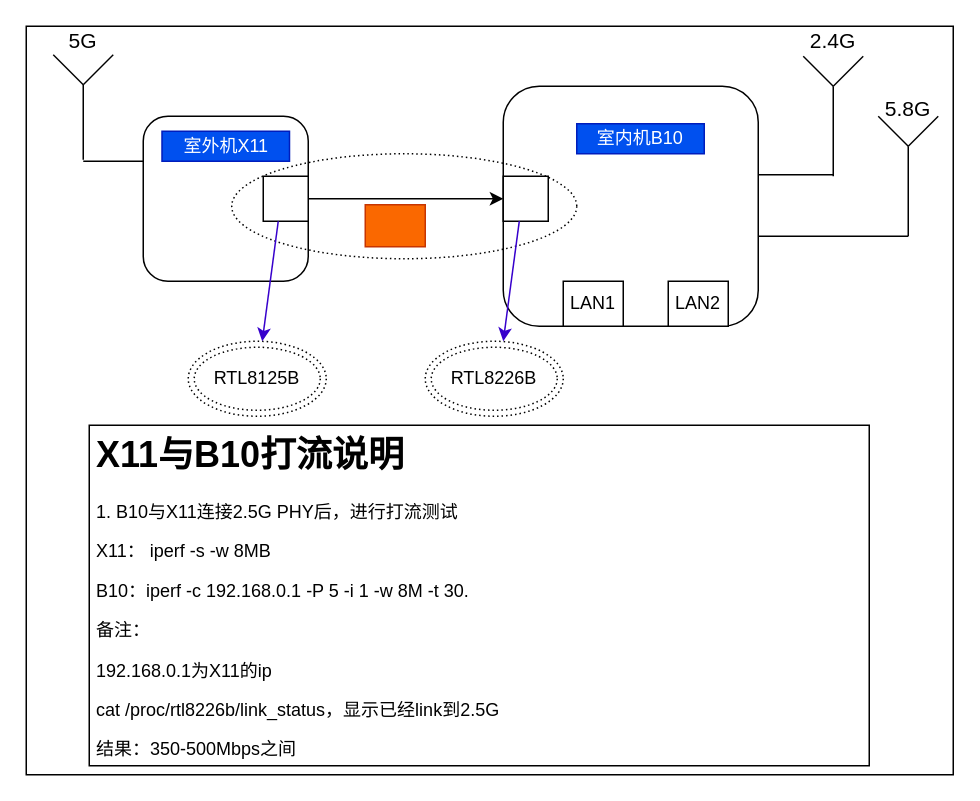
Some shapes in this 980 by 801 pixel diagram are drawn without their labels. The centre of each missing label's shape, as x and y in pixels:
"iperf 打流" belongs at pixel 394 225.
"LAN" belongs at pixel 285 198.
"WAN" belongs at pixel 525 198.
